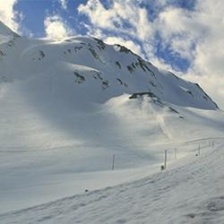neutral: (2, 2, 223, 223)
